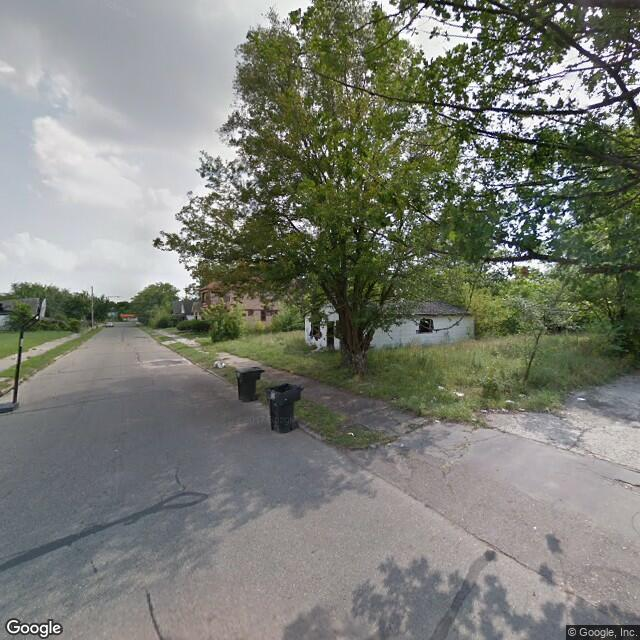litter: (213, 357, 227, 370), (452, 389, 464, 400), (576, 394, 586, 402), (345, 430, 355, 437), (438, 383, 444, 391)
